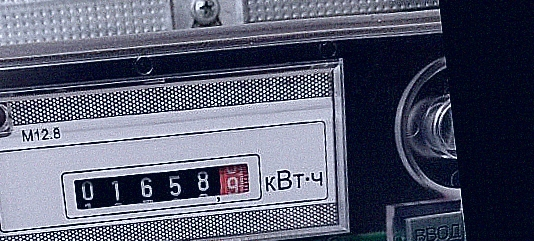0: (79, 178, 94, 201)
1: (109, 178, 122, 201)
5: (166, 172, 182, 196)
6: (137, 174, 153, 198)
8: (194, 168, 210, 191)
9: (222, 173, 239, 196)
screen: (53, 143, 271, 227)
